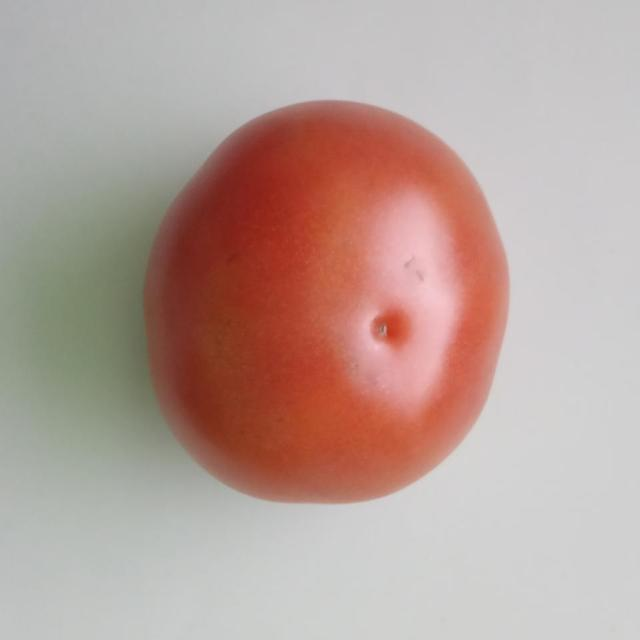Healthy Fruit: (95, 63, 341, 339)
